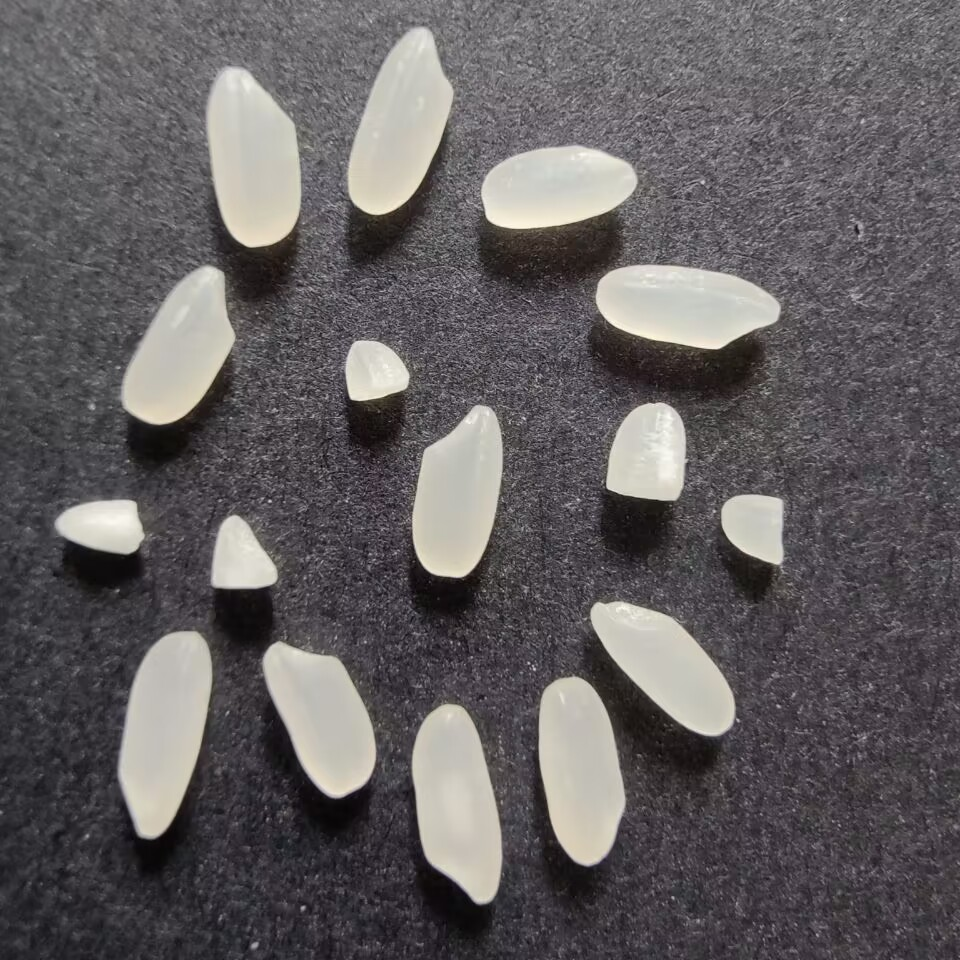broken: (600, 397, 693, 506), (47, 492, 151, 559), (713, 489, 792, 575), (206, 512, 281, 598), (336, 333, 415, 407)
rice: (337, 19, 459, 223), (112, 626, 216, 849), (404, 697, 510, 915), (585, 594, 742, 741), (114, 261, 240, 432), (199, 64, 309, 250), (592, 258, 792, 358), (532, 671, 631, 873), (258, 638, 381, 800), (404, 400, 502, 585), (472, 140, 648, 236)
